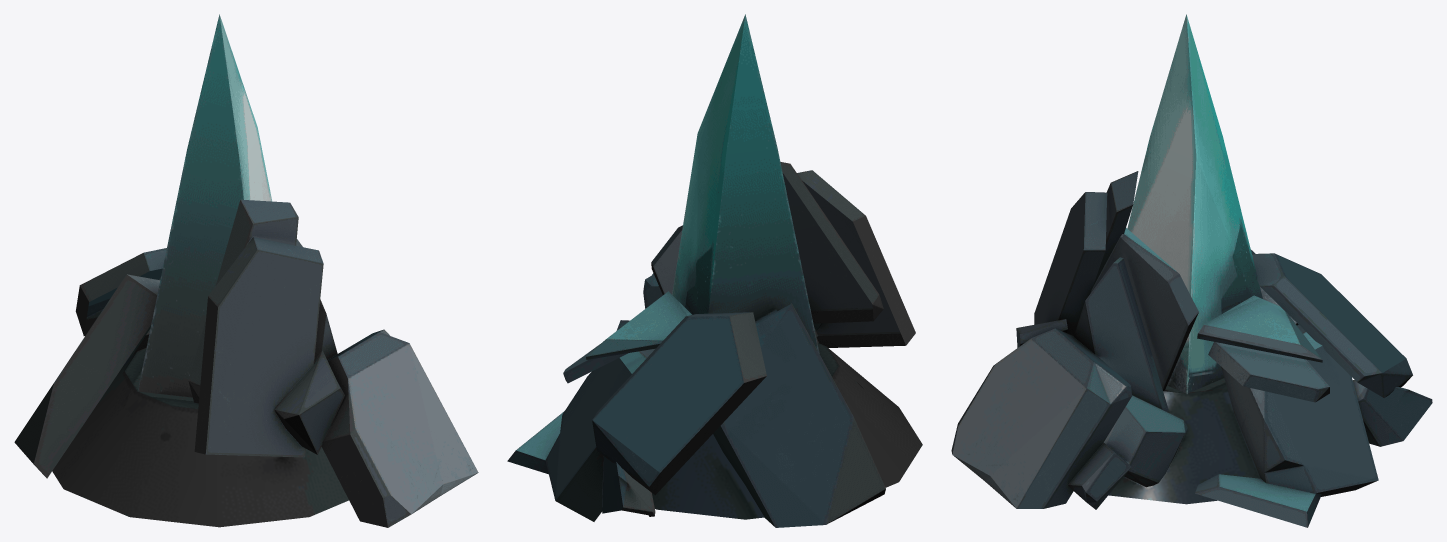
File: icer.glb
3 views of the same model, side by side, from view 1: azimuth 30°, elevation 25°; view 2: azimuth 150°, elevation 25°; view 3: azimuth 270°, elevation 25° (orthographic). The views are drawn at different scales.
Parts seen in each view (by area): view 1: s_icer; view 2: s_icer; view 3: s_icer.
Boxes of the visible parts, <box> form: s_icer: <box>14,14,478,527</box>; s_icer: <box>507,14,922,527</box>; s_icer: <box>951,14,1432,527</box>.
Size of the model in its own units: 0.7218 by 0.9397 by 0.9188.
Materials: 1 (1 with a texture image).
